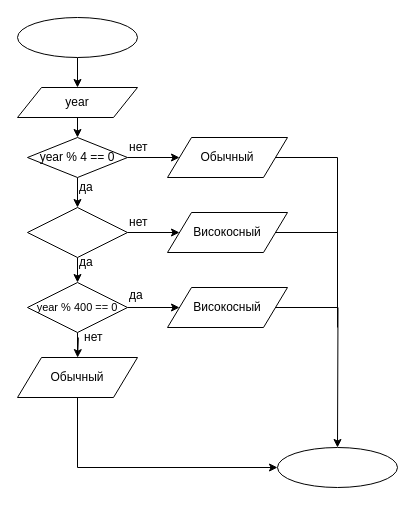
The diagram is 415 pixels wide and 505 high, and some of its shapes have lost their labels. Each missing label, with the centre of its shape:
"year % 100 == 0" belongs at (77,232).
"Конец" belongs at (337,467).
"Начало" belongs at (77,37).
